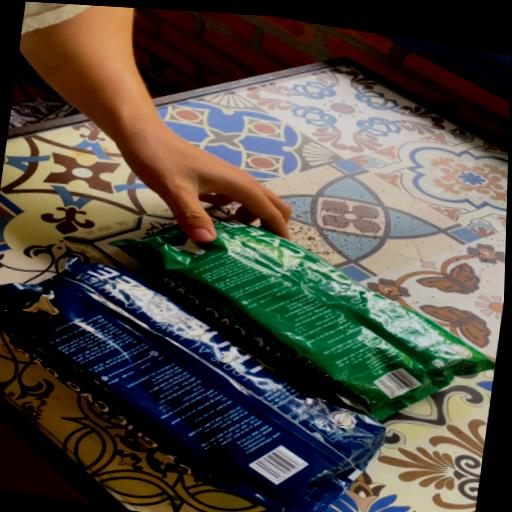cafe_hat: (0, 259, 386, 512)
cafe_xay: (113, 218, 495, 420)
